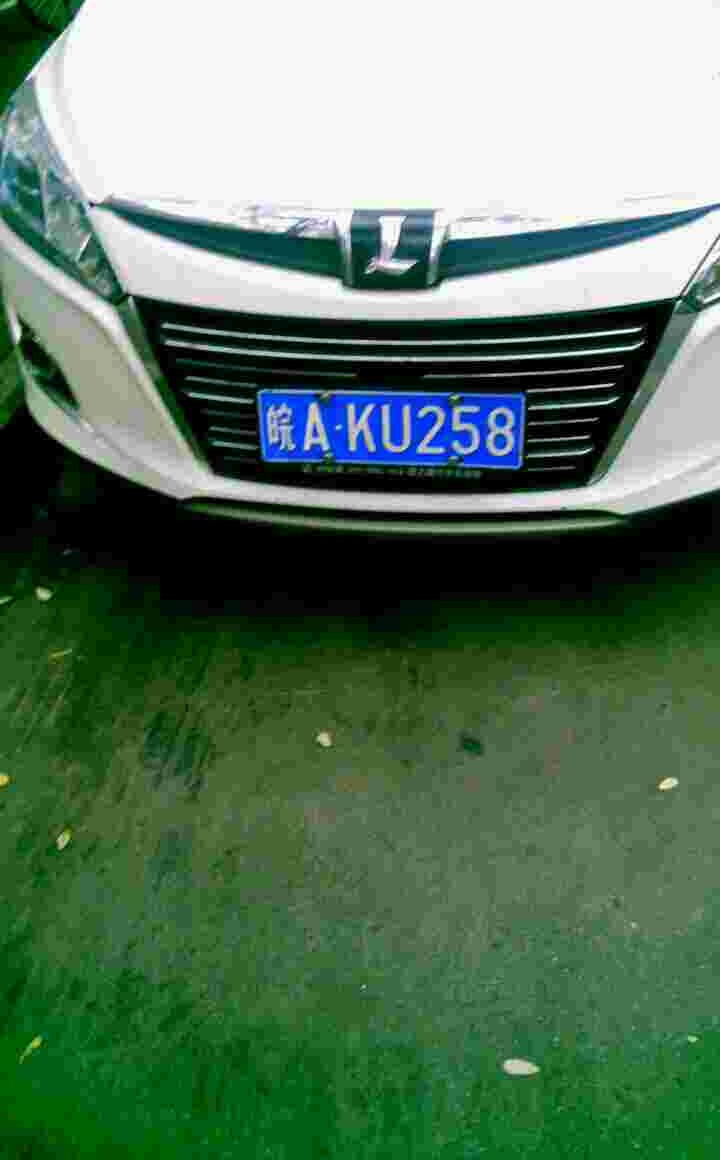car: (255, 389, 521, 477)
